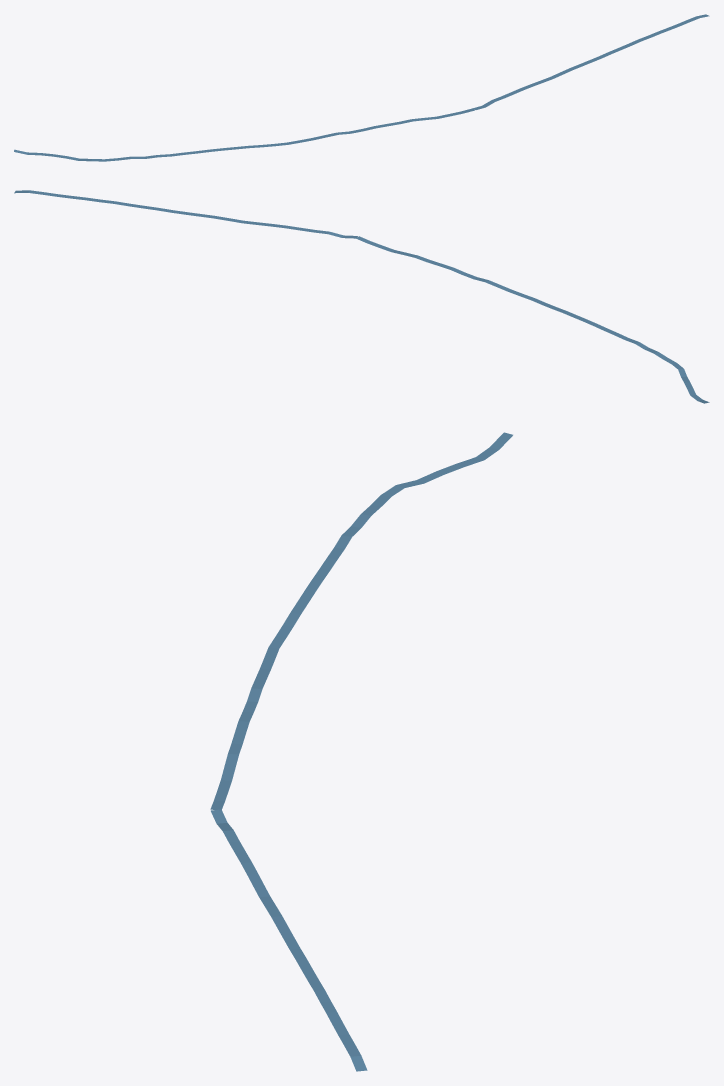
The model's file is c_1635_17835_water.glb.
3 views of the same model, one above another, from view 1: azimuth 30°, elevation 25°; view 2: azimuth 150°, elevation 25°; view 3: azimuth 270°, elevation 25° (orthographic). The views are drawn at different scales.
Visible parts, largest first — view 1: geometry_0; view 2: geometry_0; view 3: geometry_0.
Boxes of the visible parts, left/top/right/bottom form: geometry_0: left=14, top=14, right=709, bottom=161; geometry_0: left=14, top=190, right=709, bottom=403; geometry_0: left=210, top=432, right=512, bottom=1071.
Size of the model in its own units: 333 by 3.45 by 66.32.
